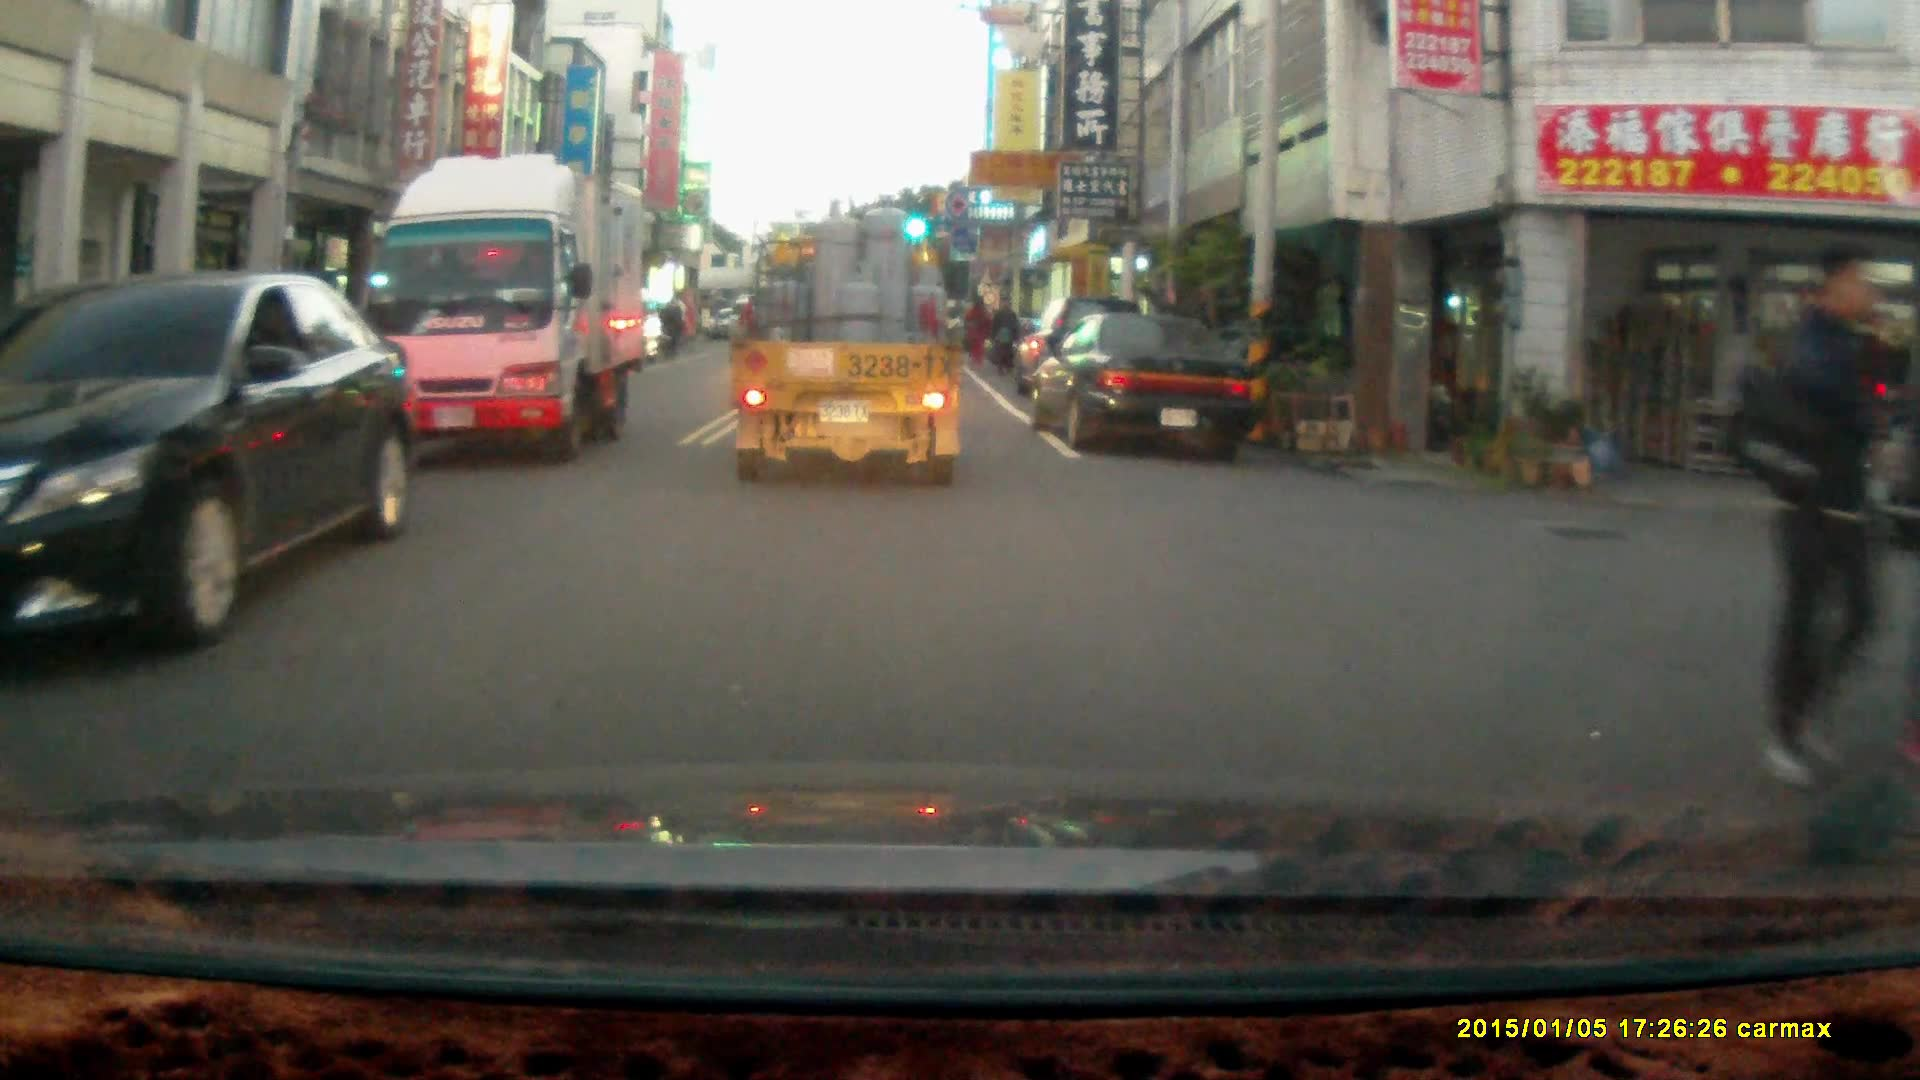pedestrian: (1731, 240, 1905, 788), (988, 294, 1019, 379), (962, 292, 992, 366), (657, 298, 686, 360)
vehicle: (1, 267, 413, 650), (359, 154, 646, 468), (731, 192, 965, 488), (1035, 310, 1258, 456)
